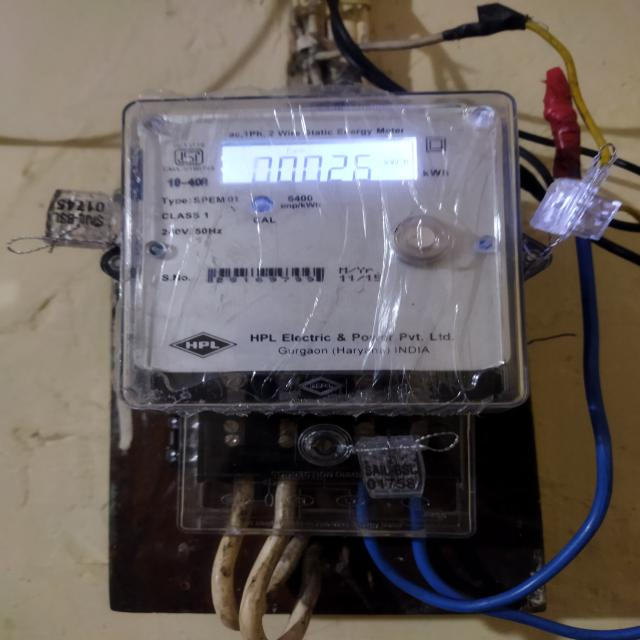display: (214, 138, 418, 190)
